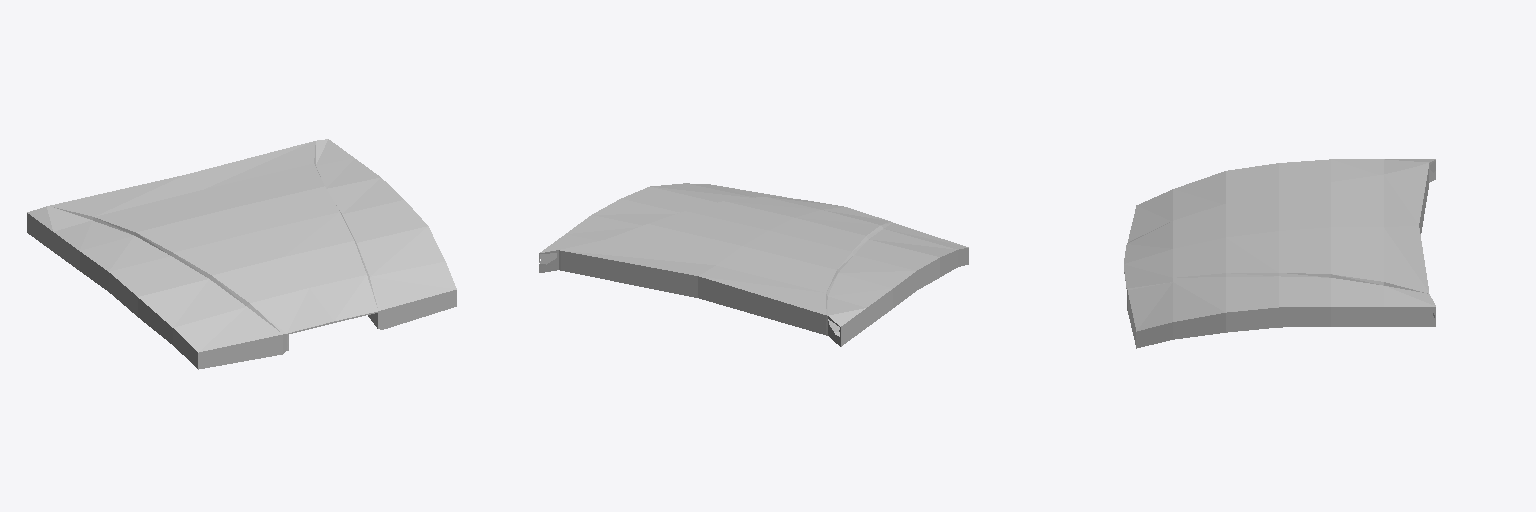
The model's file is cofre.obj.
3 views of the same model, side by side, from view 1: azimuth 30°, elevation 25°; view 2: azimuth 150°, elevation 25°; view 3: azimuth 270°, elevation 25° (orthographic).
Parts seen in each view (by area): view 1: Cofre; view 2: Cofre; view 3: Cofre.
Boxes of the visible parts, <box> form: Cofre: <box>27,139,456,369</box>; Cofre: <box>539,183,968,346</box>; Cofre: <box>1124,159,1435,348</box>.
Size of the model in its own units: 13.06 by 2.54 by 11.74.